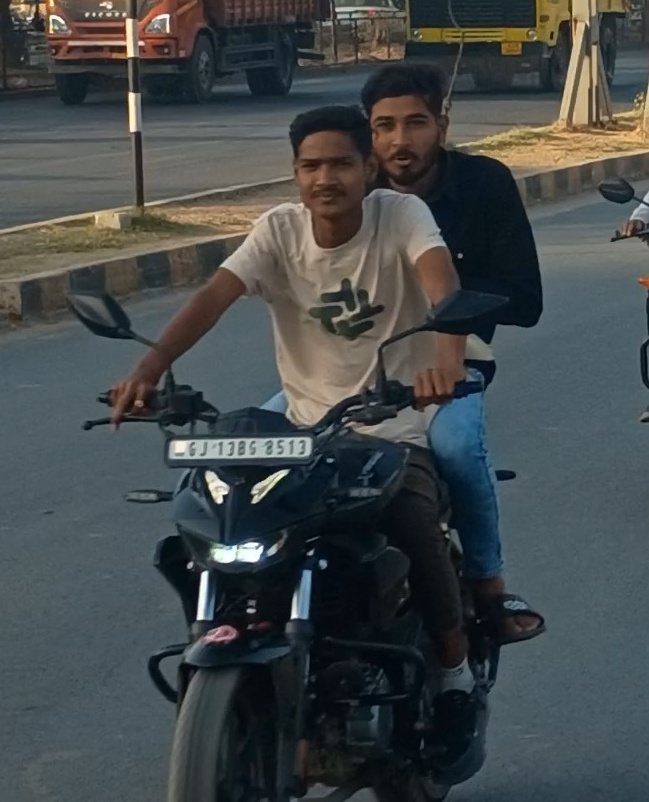BikeWithRider: (54, 54, 557, 802)
NoHelmet: (352, 55, 461, 191), (277, 96, 384, 232)
